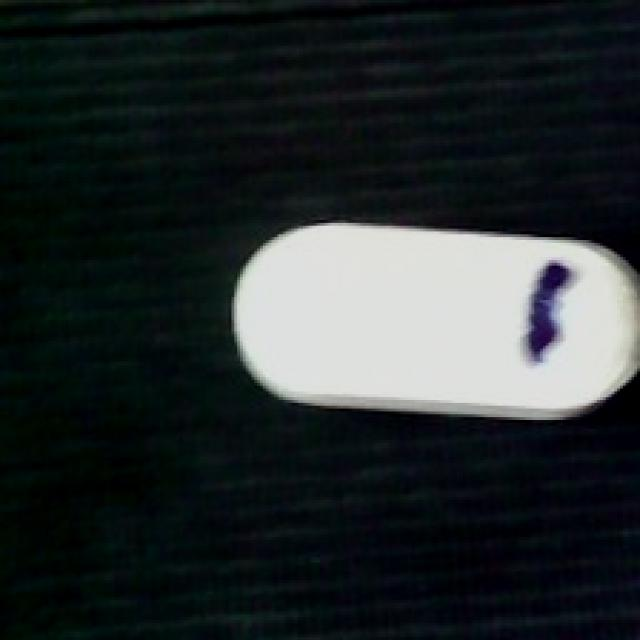defected: (229, 214, 640, 422)
